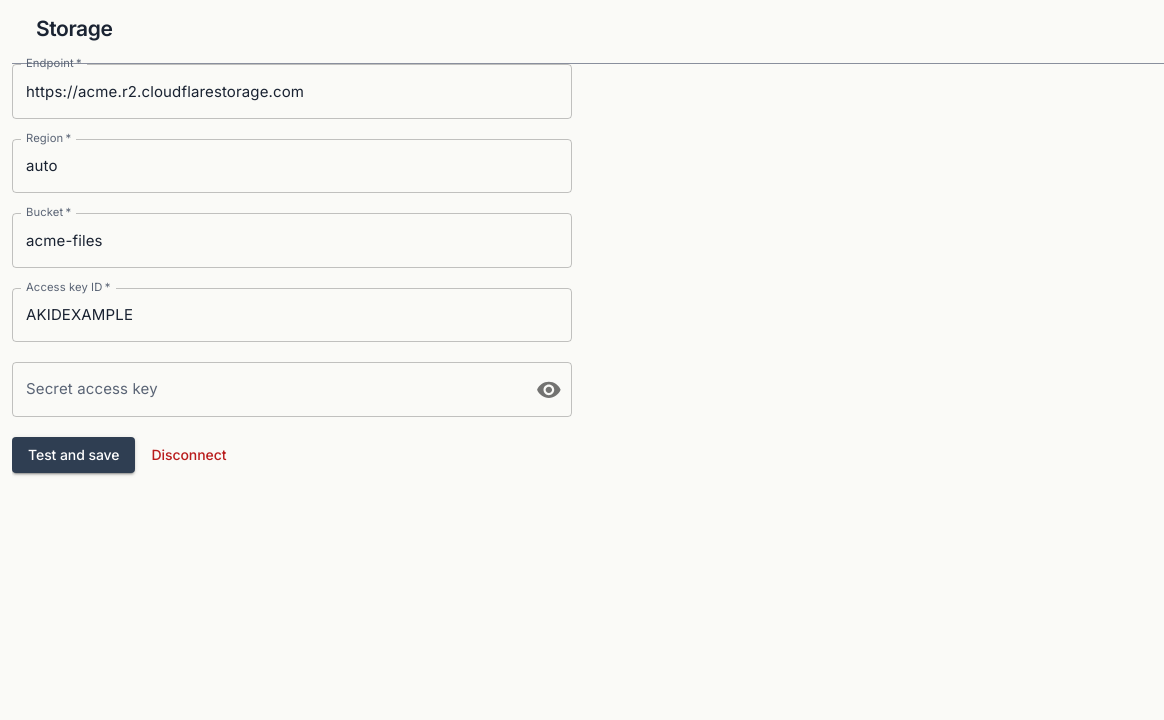
Test: Storage settings (M0006-02-R015) › AC03: names the reason a connection test failed
Click the button "Test and save" at {"x": 74, "y": 455}, box [12,437,135,473]
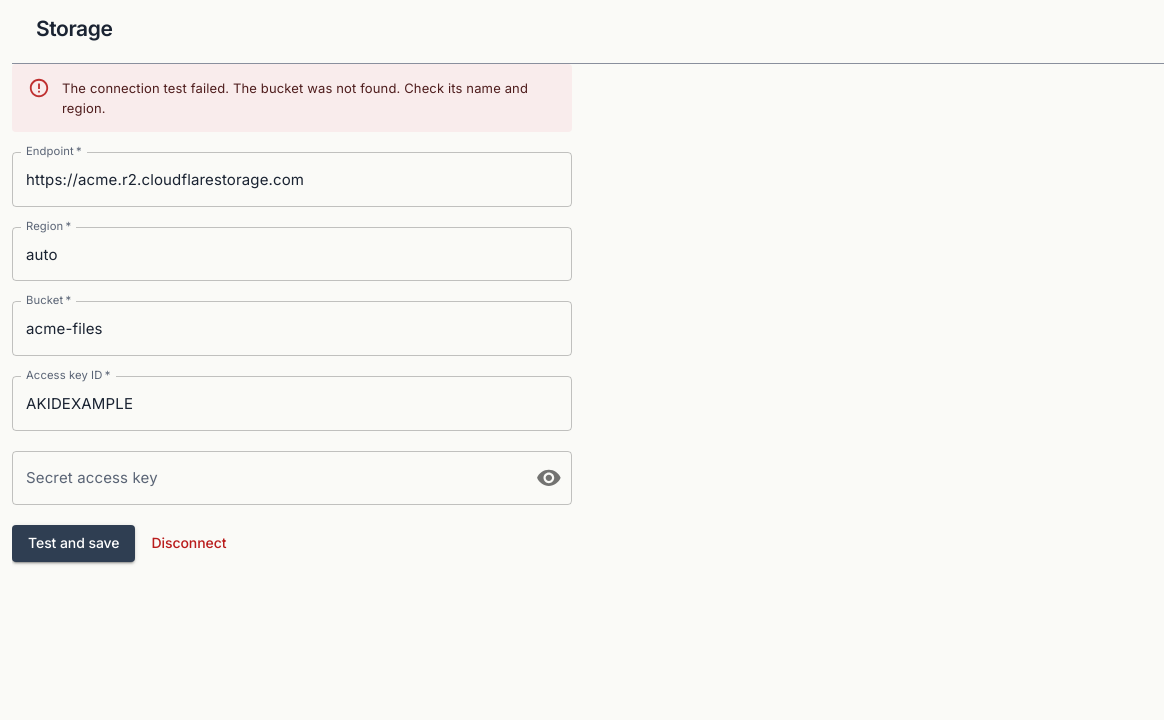
Expected: the text "The connection test failed. The bucket was not found" is shown, [62,80,528,116]
